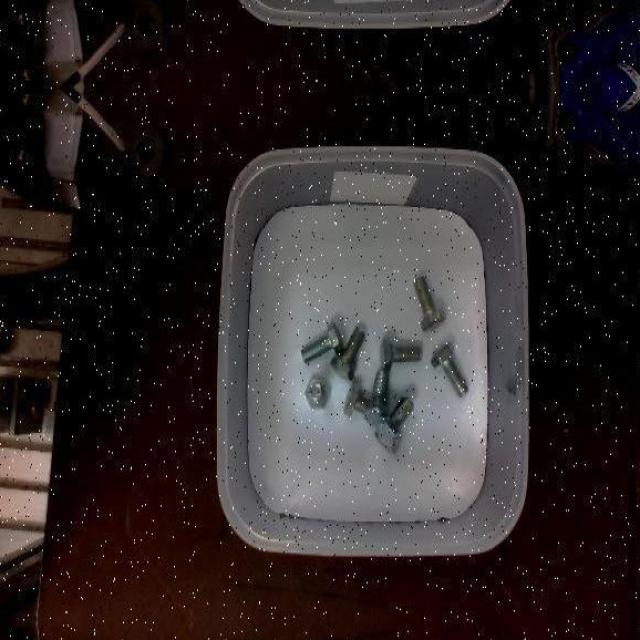screw: (430, 341, 470, 397), (374, 395, 414, 444), (330, 328, 365, 382), (414, 275, 446, 332), (302, 320, 344, 363), (379, 334, 422, 372), (304, 374, 330, 408)
